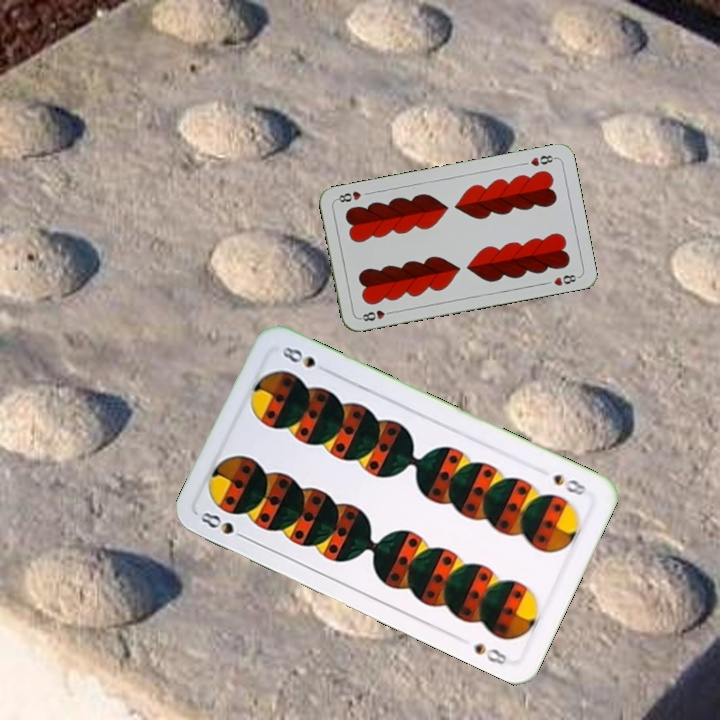H8: (356, 306, 396, 324), (526, 151, 558, 169)
S8: (194, 508, 251, 543), (549, 470, 594, 498)
